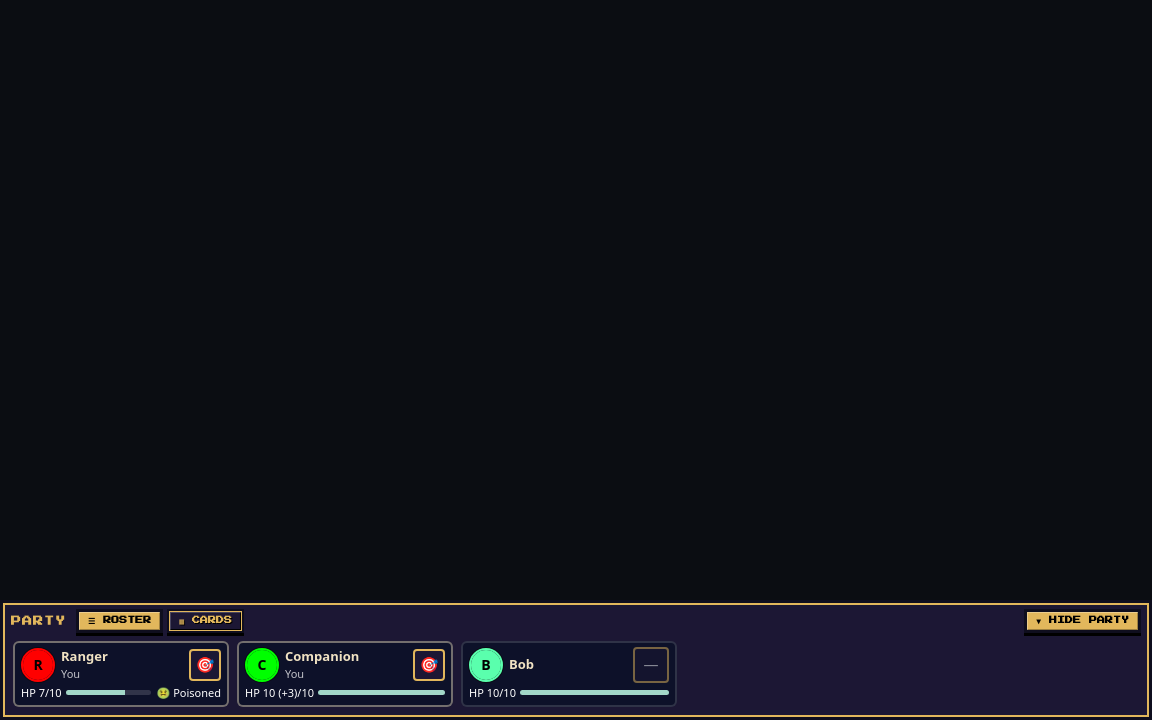
Test: EntitiesPanel — the compact roster (U7) › Cards shows every full card at once; Roster returns to the compact rows
Click the button "▦ Cards".
click(206, 620)  # box [167,608,244,632]
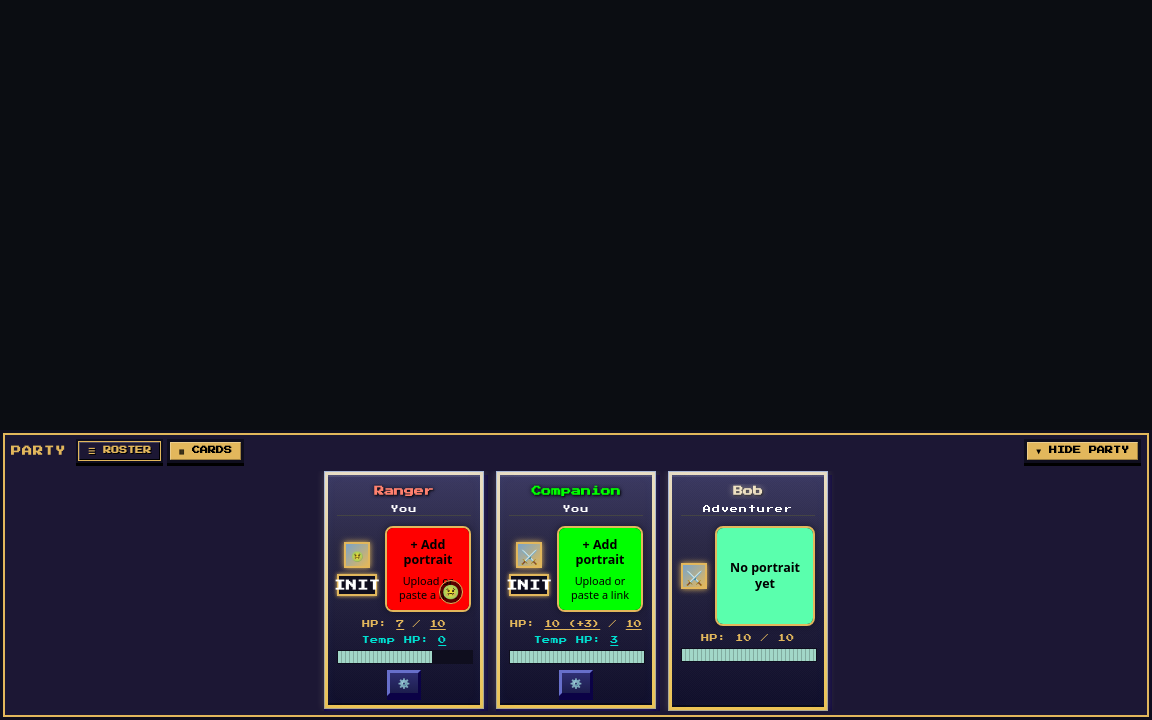
Click the button "☰ Roster".
click(120, 451)  # box [76,439,163,463]
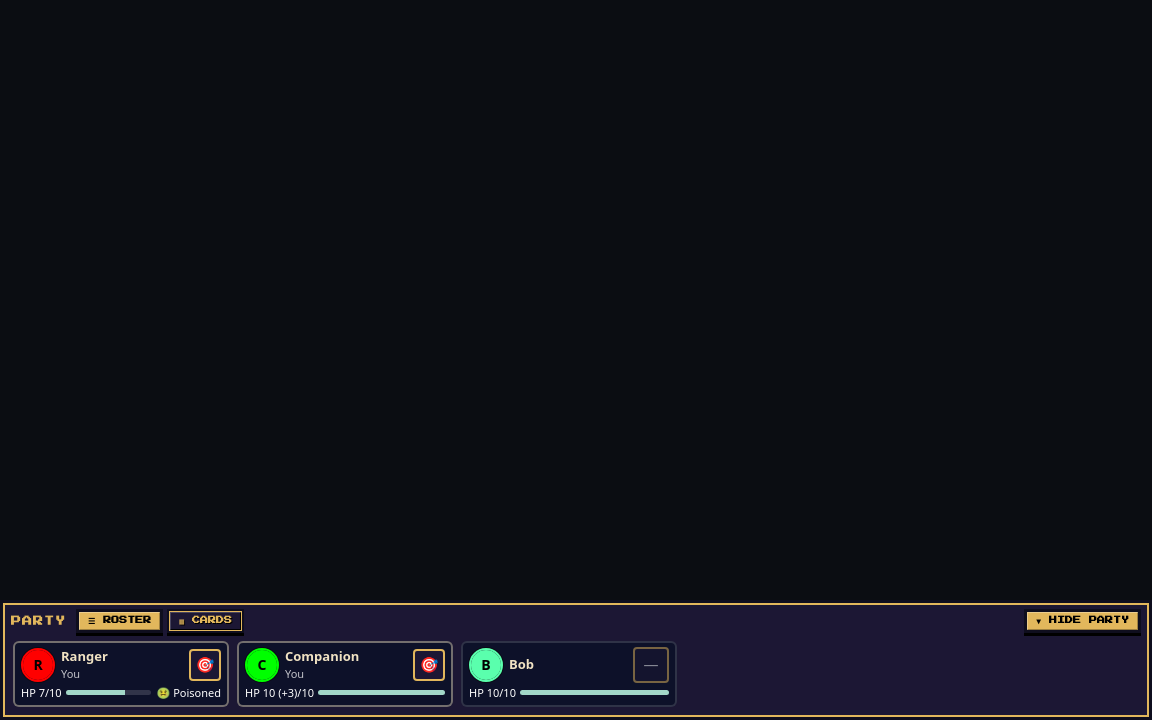
Check: the list named "Party roster" is shown, box [13,640,677,707]
